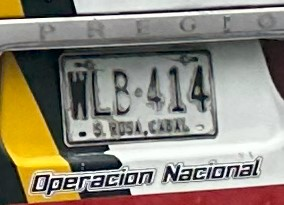number plate: (61, 52, 215, 144)
